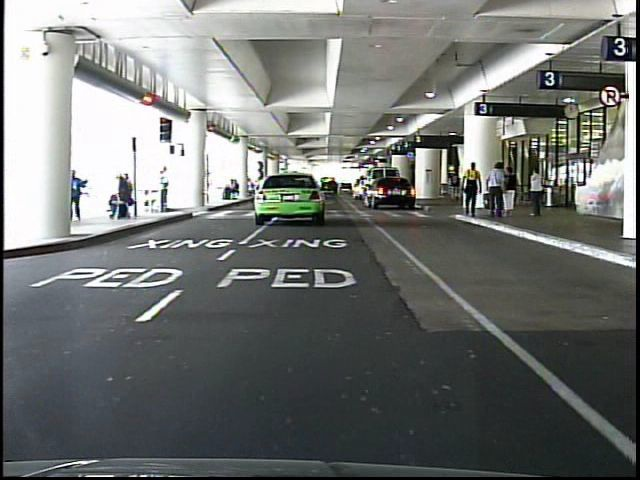person: (526, 163, 553, 225), (460, 160, 483, 225), (484, 162, 505, 220), (155, 165, 177, 218), (503, 164, 519, 220), (449, 167, 462, 204)
